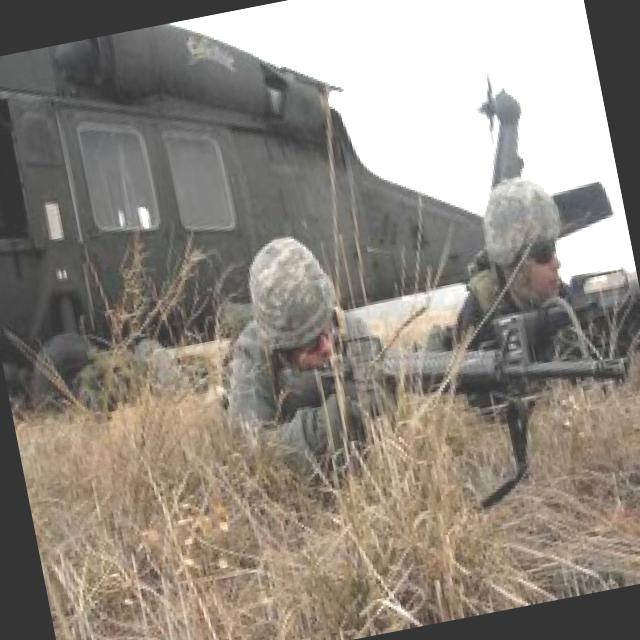long weapon: (271, 296, 639, 485)
